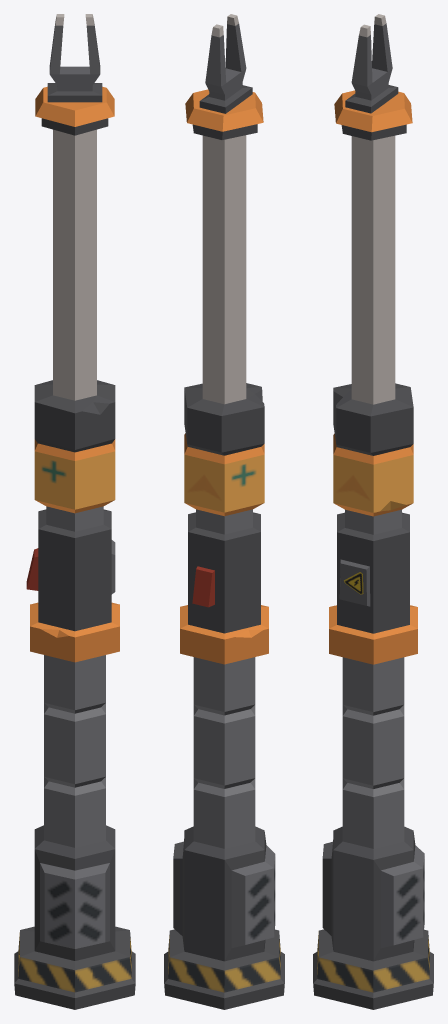
Rendered from SM_Wep_Shock_Stick_04.fbx.
3 views of the same model, side by side, from view 1: azimuth 90°, elevation 25°; view 2: azimuth 150°, elevation 25°; view 3: azimuth 330°, elevation 25° (orthographic).
Parts seen in each view (by area): view 1: SM_Wep_Shock_Stick_04; view 2: SM_Wep_Shock_Stick_04; view 3: SM_Wep_Shock_Stick_04.
Part boxes in pixels (left/top/right/bottom): SM_Wep_Shock_Stick_04: left=14, top=14, right=135, bottom=1009; SM_Wep_Shock_Stick_04: left=164, top=14, right=284, bottom=1009; SM_Wep_Shock_Stick_04: left=313, top=14, right=433, bottom=1009.
Bounding box in the file's own units: 13.67 × 104 × 11.84.
